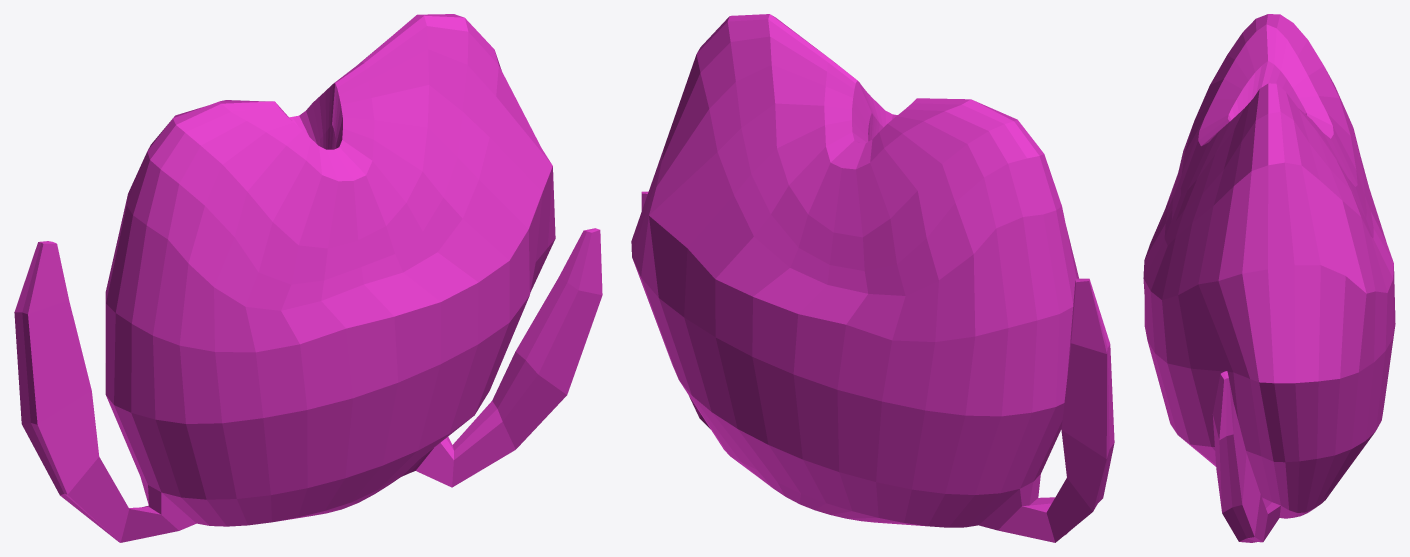
Rendered from heart.gltf.
The picture shows the model from 3 angles, left to right: view 1: azimuth 30°, elevation 25°; view 2: azimuth 150°, elevation 25°; view 3: azimuth 270°, elevation 25°; orthographic projection. The views are drawn at different scales.
Visible parts, largest first — view 1: Cone; view 2: Cone; view 3: Cone.
Boxes of the visible parts, box(x1,y1,x2,y2) form: Cone: box(14, 14, 602, 542); Cone: box(631, 14, 1114, 542); Cone: box(1143, 14, 1395, 542).
Size of the model in its own units: 2.85 by 2.42 by 1.23.
